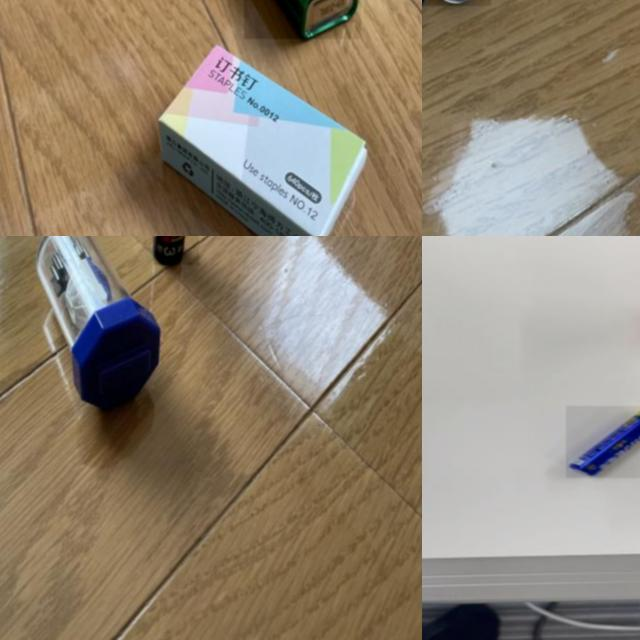9V: (244, 0, 361, 39)
